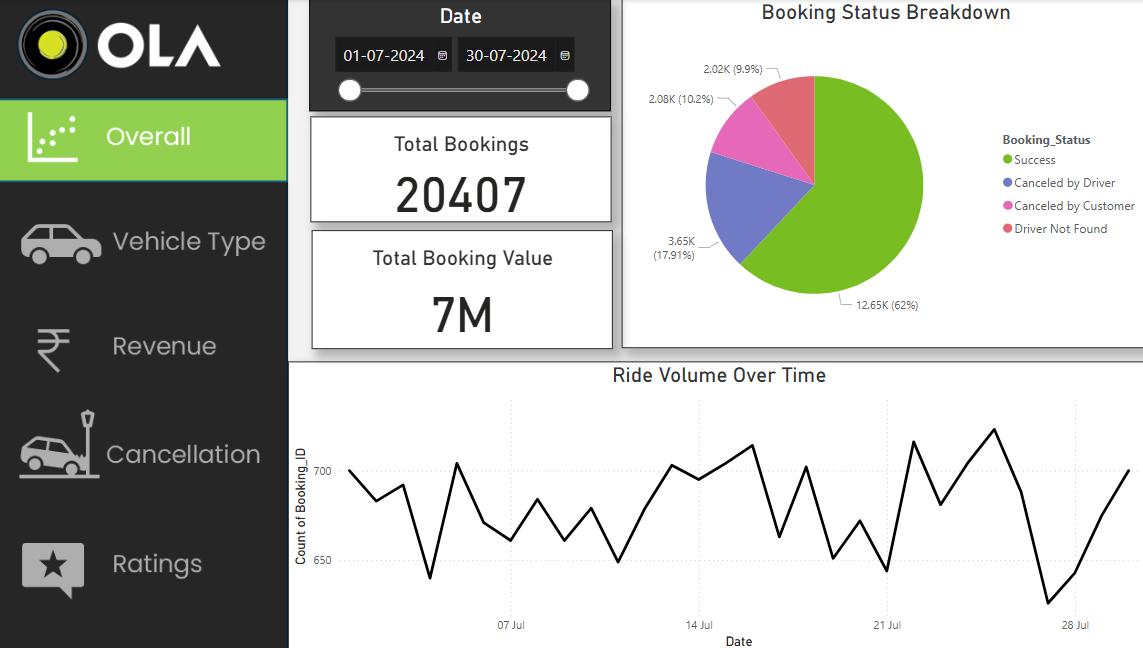

This screenshot's page, from the dashboard's own definition file:
{"tool":"powerbi","page":{"name":"Overall","canvas":[1280,720],"ordinal":0},"visuals":[{"type":"actionButton","box":[0,220.9,323.9,92],"z":0},{"type":"actionButton","box":[0,336.2,323.9,92],"z":1000},{"type":"actionButton","box":[0,445.4,323.9,92],"z":2000},{"type":"actionButton","box":[0,576.7,323.9,92],"z":3000},{"type":"actionButton","box":[0,110.4,323.9,92],"z":4000},{"type":"lineChart","title":"Ride Volume Over Time","fields":{"Y":["Count(Booking csv.Booking_ID)"],"Category":["Booking csv.Date"]},"box":[323.8,397.9,945.5,322.5],"z":5000},{"type":"pieChart","title":"Booking Status Breakdown","fields":{"Category":["Booking csv.Booking_Status"],"Y":["CountNonNull(Booking csv.Booking_Status)"]},"box":[690.2,0,579.1,382.8],"z":6000},{"type":"slicer","title":"Date","fields":{"Values":["Booking csv.Date"]},"box":[347.1,0,331.4,122.9],"z":7000},{"type":"card","title":"Total Bookings","fields":{"Values":["Count(Booking csv.Booking_ID)"]},"box":[348.6,128.6,330,115.7],"z":8000},{"type":"card","title":"Total Booking Value","fields":{"Values":["Sum(Booking csv.Booking_Value)"]},"box":[350,254.3,330,130],"z":9000}]}

Visuals, with their boxes on the page's 1280x720 design canvas (x1, y1, x2, y2). These are canvas units, not pixel positions in the 1143x648 screenshot, which may show the page scaled, cropped or inside an application window:
actionButton: box(0, 221, 324, 313)
actionButton: box(0, 336, 324, 428)
actionButton: box(0, 445, 324, 537)
actionButton: box(0, 577, 324, 669)
actionButton: box(0, 110, 324, 202)
"Ride Volume Over Time" lineChart: box(324, 398, 1269, 720)
"Booking Status Breakdown" pieChart: box(690, 0, 1269, 383)
"Date" slicer: box(347, 0, 678, 123)
"Total Bookings" card: box(349, 129, 679, 244)
"Total Booking Value" card: box(350, 254, 680, 384)
